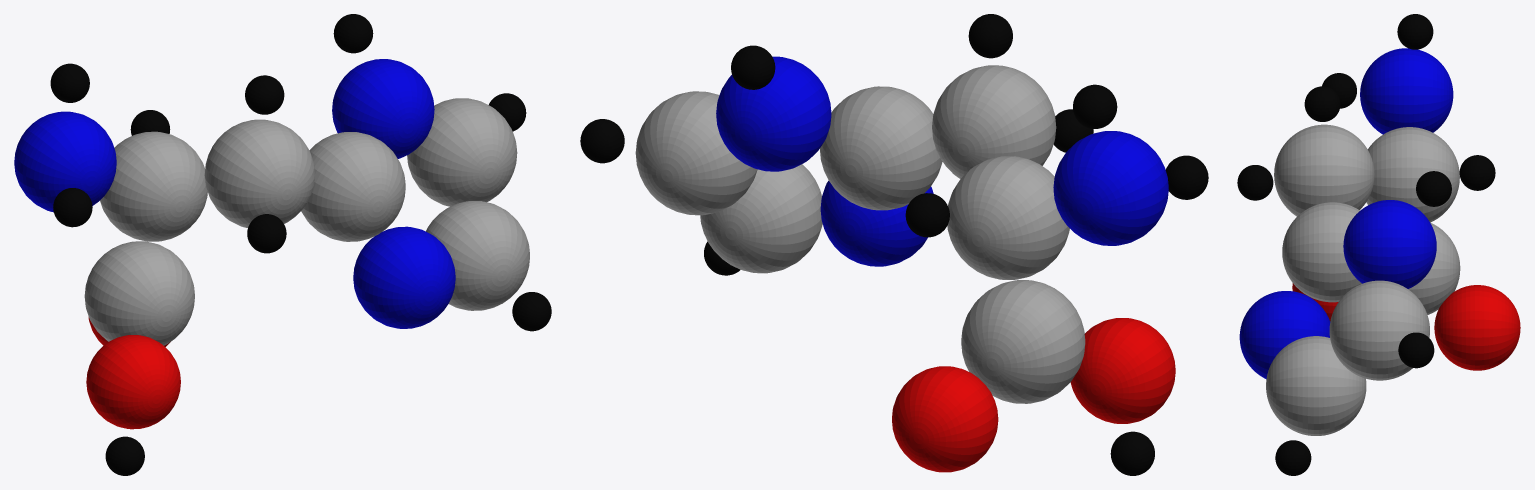
Rendered from Histidine.glb.
The picture shows the model from 3 angles, left to right: view 1: azimuth 30°, elevation 25°; view 2: azimuth 150°, elevation 25°; view 3: azimuth 270°, elevation 25°; orthographic projection. The views are drawn at different scales.
Visible parts, largest first — view 1: world; view 2: world; view 3: world.
Part boxes in pixels (box(x1,y1,x2,y2)): world: box(14, 14, 551, 475); world: box(580, 14, 1208, 475); world: box(1237, 14, 1520, 475).
Bounding box in the file's own units: 7.47 × 5.3 × 3.94.
